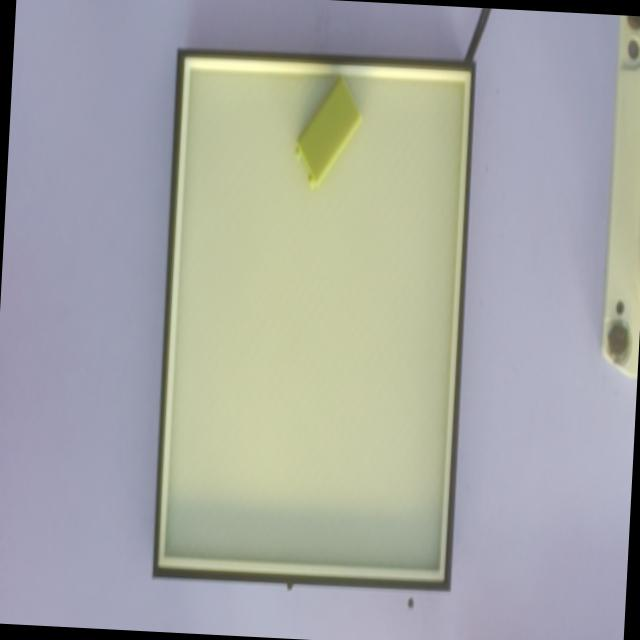bateria: (293, 72, 362, 191)
mesa: (153, 51, 476, 592)
